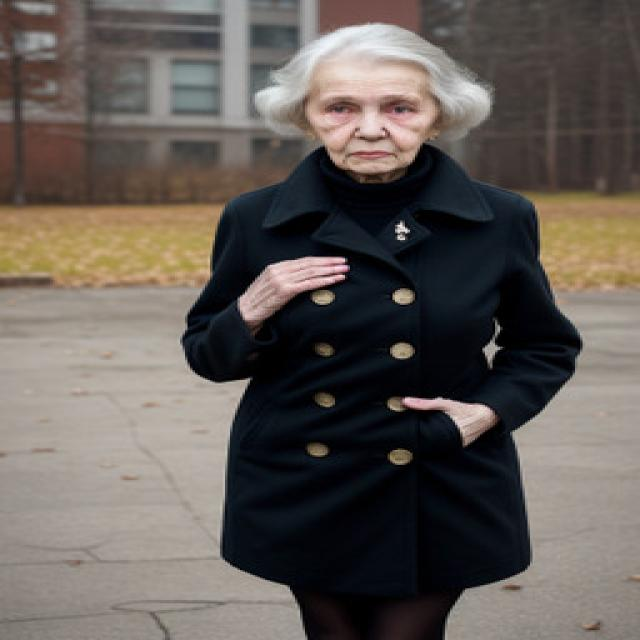Ai human 2: (171, 14, 589, 640)
